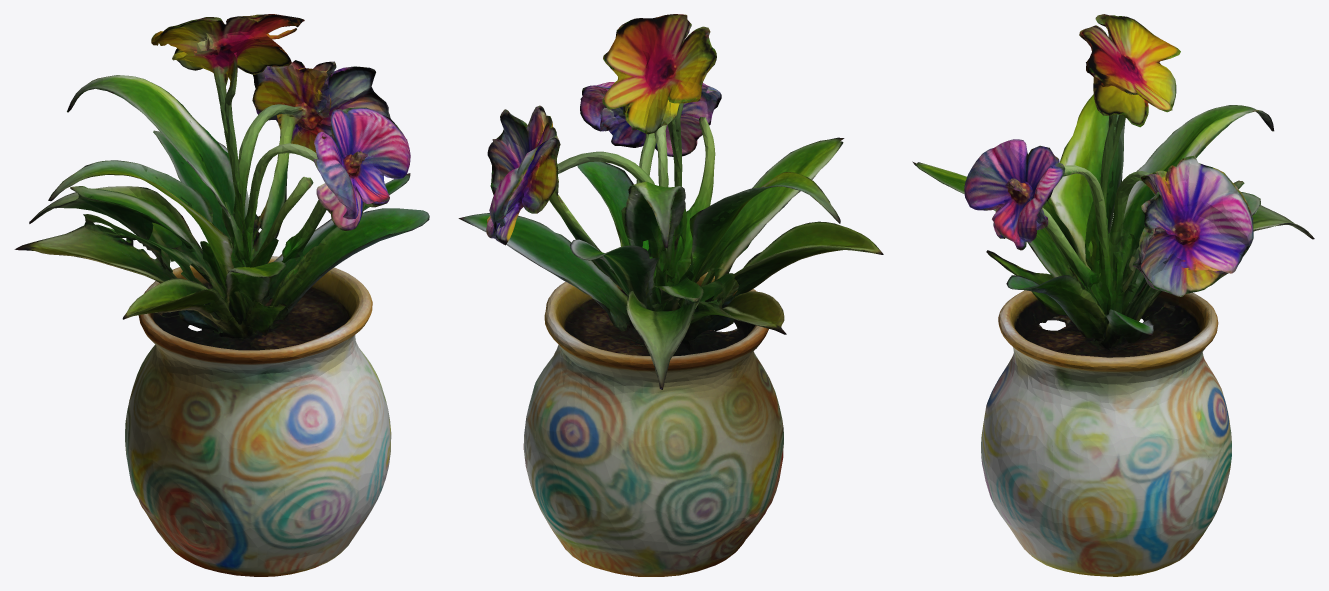
The model's file is ai_core.glb.
3 views of the same model, side by side, from view 1: azimuth 30°, elevation 25°; view 2: azimuth 150°, elevation 25°; view 3: azimuth 270°, elevation 25° (orthographic). The views are drawn at different scales.
Visible parts, largest first — view 1: world; view 2: world; view 3: world.
Part boxes in pixels (x1,y1,x2,y2): world: (14,14,429,576); world: (458,14,883,576); world: (912,14,1314,576).
Size of the model in its own units: 0.7342 by 0.9996 by 0.7231.
Materials: 1 (1 with a texture image).
